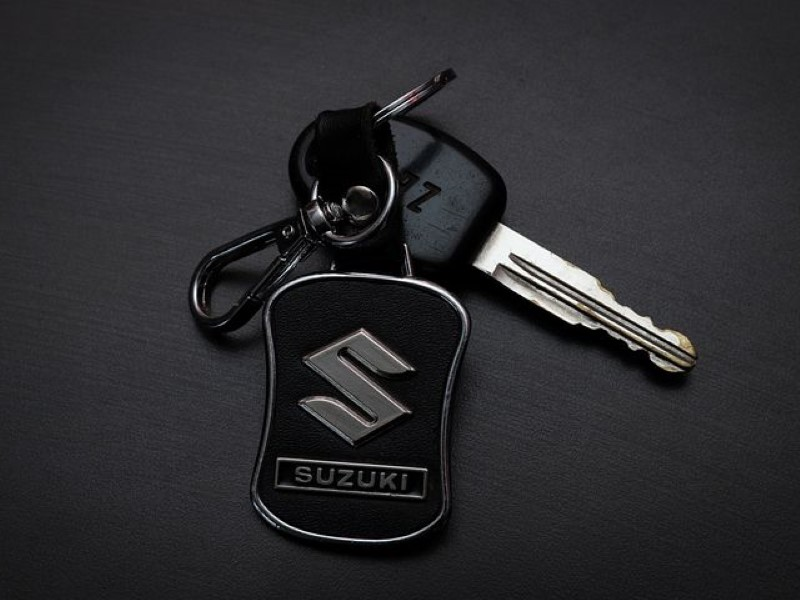key: (287, 105, 708, 387)
